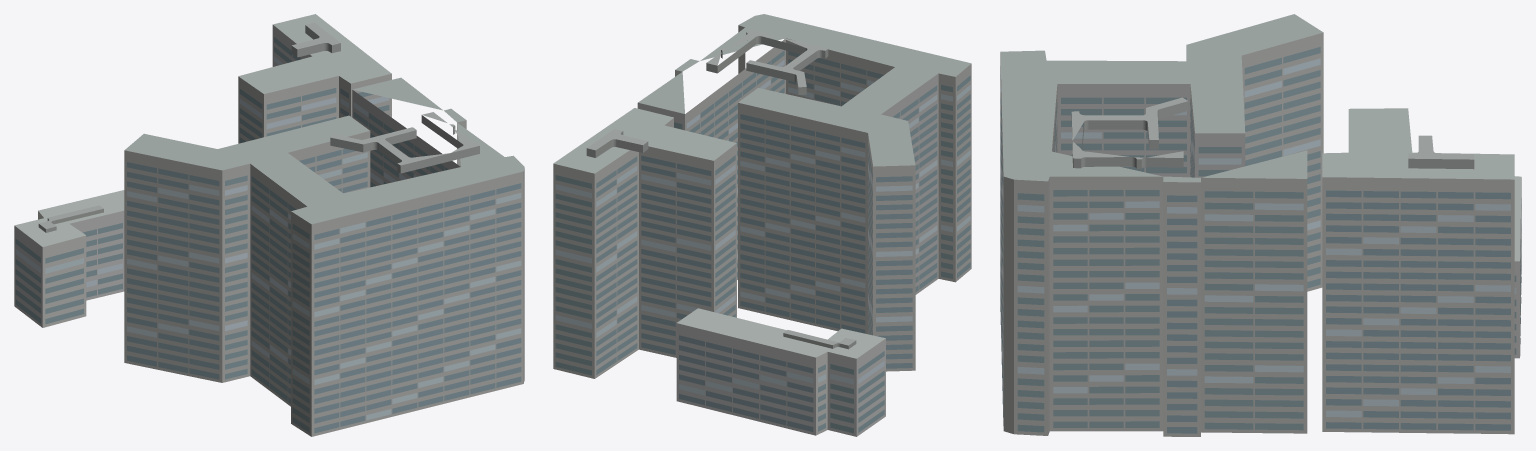
The model's file is apt-a10024420.glb.
3 views of the same model, side by side, from view 1: azimuth 30°, elevation 25°; view 2: azimuth 150°, elevation 25°; view 3: azimuth 270°, elevation 25° (orthographic). The views are drawn at different scales.
Parts seen in each view (by area): view 1: apt-a10024420; view 2: apt-a10024420; view 3: apt-a10024420.
Boxes of the visible parts, x1=… form: apt-a10024420: x1=14, y1=14, x2=524, y2=436; apt-a10024420: x1=553, y1=14, x2=971, y2=436; apt-a10024420: x1=1000, y1=14, x2=1521, y2=436.
Bounding box in the file's own units: 98.05 × 65.9 × 118.
